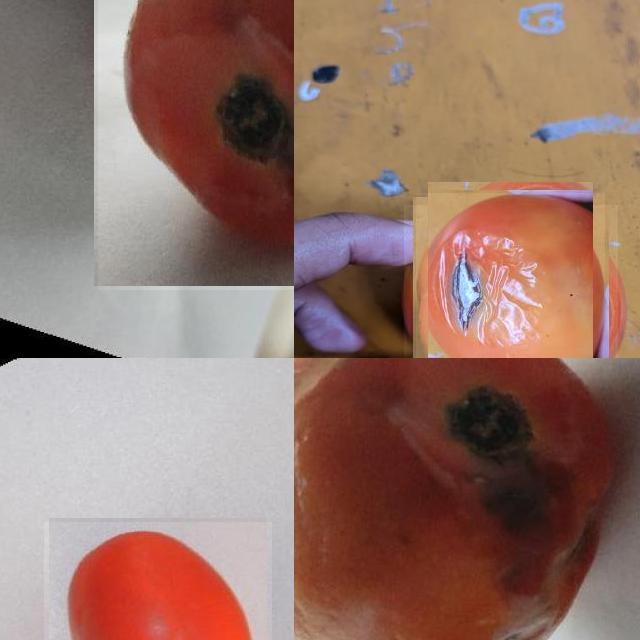1: (294, 358, 640, 640), (97, 0, 294, 290)
Fresh Tomato: (44, 522, 271, 640)
Rotten Tomato: (416, 193, 605, 358)
